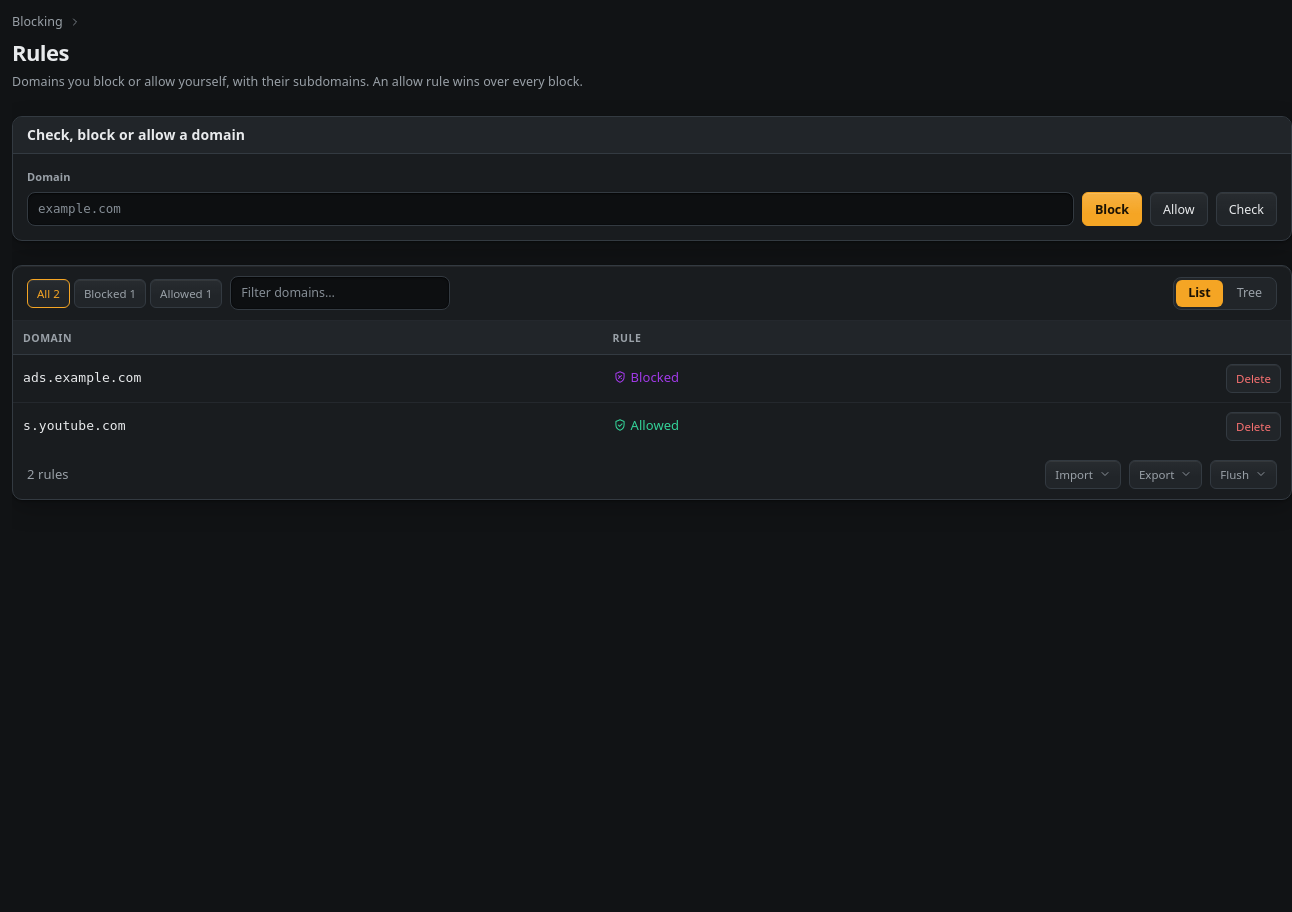
Rules: Delete with Undo › a second Delete joins the open notice, and one Undo puts both back, each in its list
Click the button "Delete" in the row of "ads.". click: (1254, 378)
box: [1226,364,1281,393]
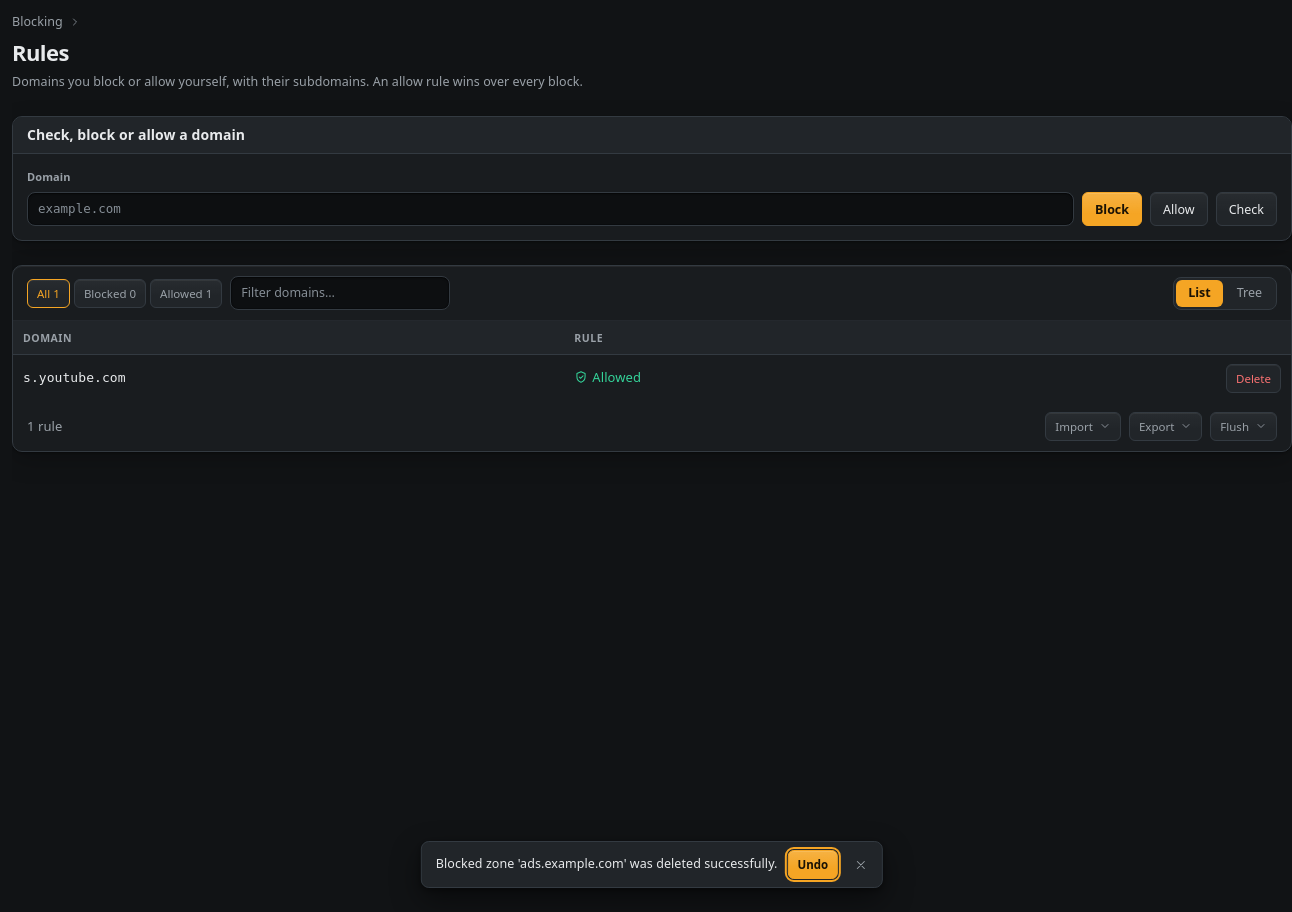
Click the button with aria-label "Delete s.youtube.com". click: (1254, 378)
box: [1226,364,1281,393]
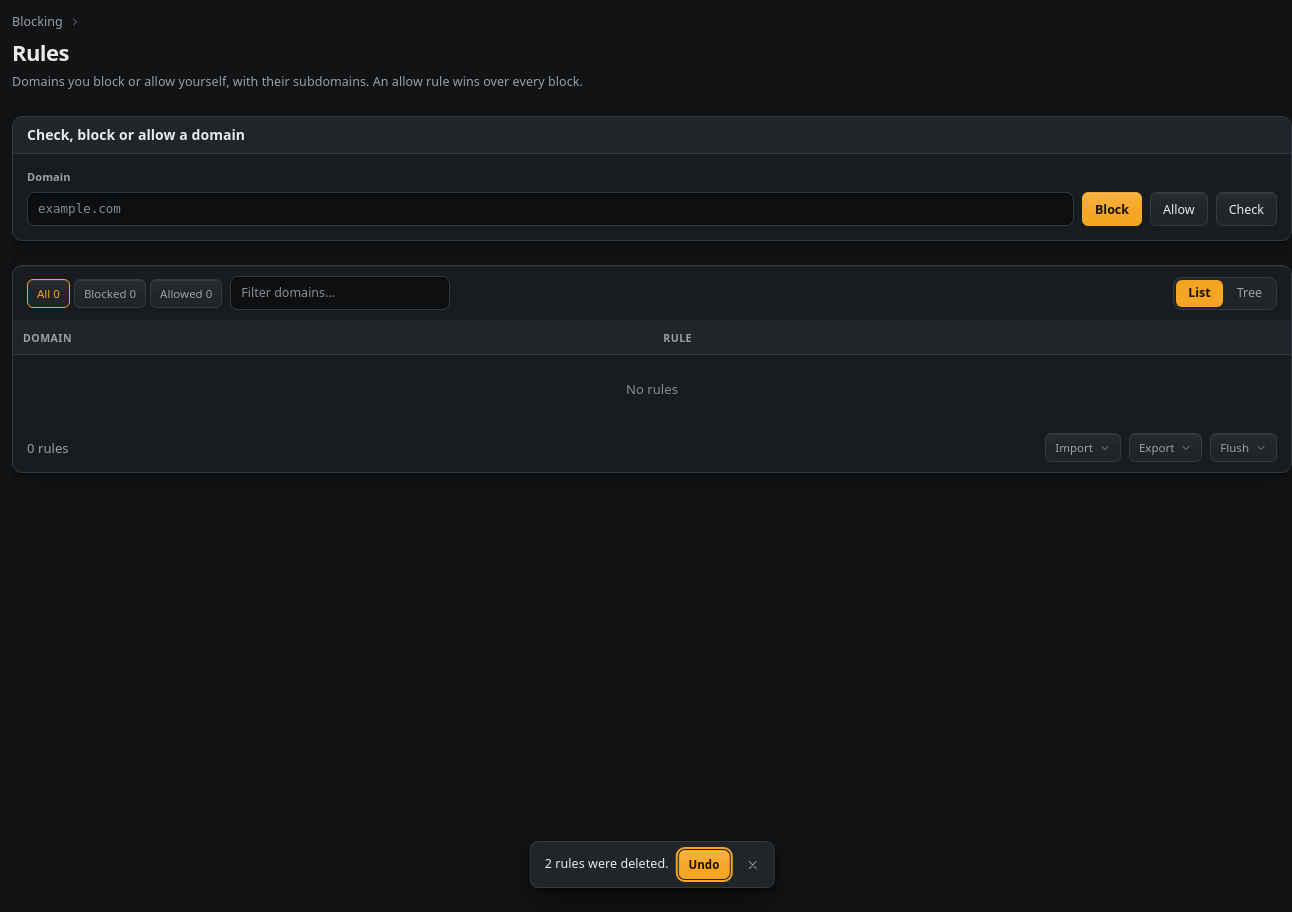
Check: the message reads "2 rules were deleted.", box [545,855,669,872]
Click the button "Undo". click: (704, 864)
box: [679,850,729,879]
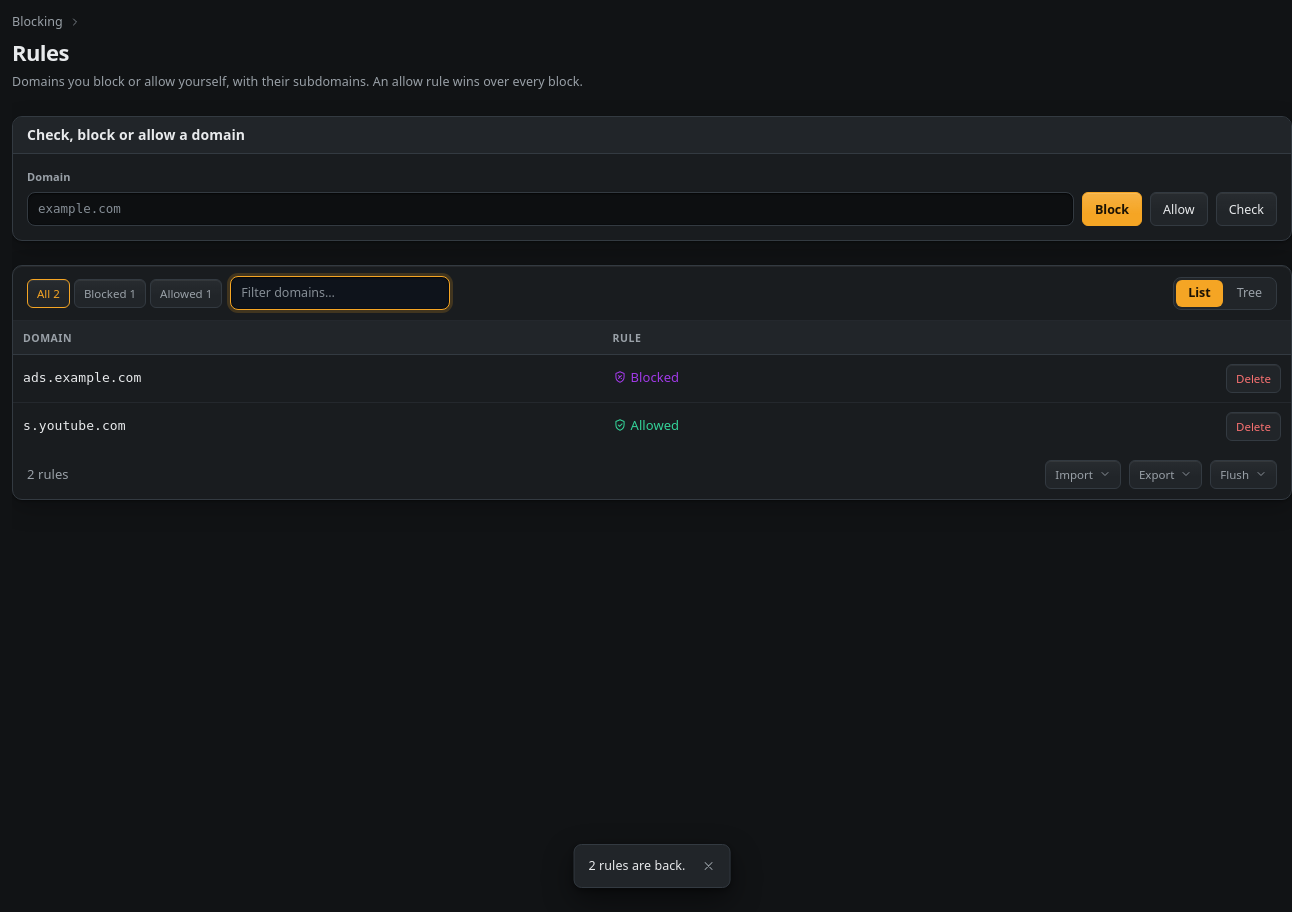
Check: the text "2 rules are back." is shown, box [589,857,686,875]
